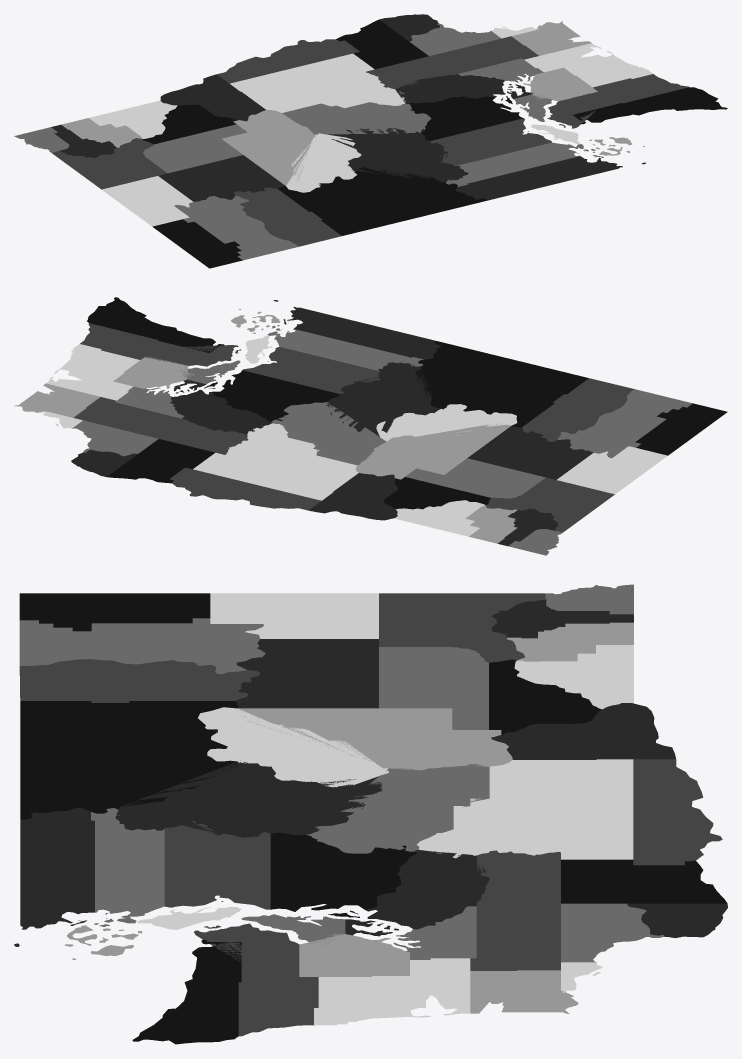
File: Washington_Counties_2D.fbx
3 views of the same model, one above another, from view 1: azimuth 30°, elevation 25°; view 2: azimuth 150°, elevation 25°; view 3: azimuth 270°, elevation 25° (orthographic). The views are drawn at different scales.
Visible parts, largest first — view 1: WA_Okanogan_County_2D, WA_Yakima_County_2D, WA_Chelan_County_2D, WA_Grant_County_2D, WA_Lewis_County_2D, WA_Kittitas_County_2D, WA_Stevens_County_2D, WA_Lincoln_County_2D, WA_Ferry_County_2D, WA_Whatcom_County_2D, WA_King_County_2D, WA_Snohomish_County_2D (+25 smaller); view 2: WA_Okanogan_County_2D, WA_Yakima_County_2D, WA_Chelan_County_2D, WA_Grant_County_2D, WA_Lewis_County_2D, WA_Kittitas_County_2D, WA_Stevens_County_2D, WA_Lincoln_County_2D, WA_Ferry_County_2D, WA_King_County_2D, WA_Whatcom_County_2D, WA_Snohomish_County_2D (+25 smaller); view 3: WA_Okanogan_County_2D, WA_Yakima_County_2D, WA_Chelan_County_2D, WA_Grant_County_2D, WA_Lewis_County_2D, WA_Stevens_County_2D, WA_Kittitas_County_2D, WA_Lincoln_County_2D, WA_Ferry_County_2D, WA_King_County_2D, WA_Whatcom_County_2D, WA_Douglas_County_2D (+27 smaller).
Boxes of the visible parts, box(x1,y1,x2,y2) form: WA_Okanogan_County_2D: box(277, 167, 487, 235); WA_Yakima_County_2D: box(230, 53, 405, 112); WA_Chelan_County_2D: box(327, 128, 468, 182); WA_Grant_County_2D: box(221, 110, 315, 185); WA_Lewis_County_2D: box(366, 36, 538, 88); WA_Kittitas_County_2D: box(282, 102, 431, 134); WA_Stevens_County_2D: box(174, 195, 298, 260); WA_Lincoln_County_2D: box(158, 155, 285, 201); WA_Ferry_County_2D: box(234, 187, 341, 246); WA_Whatcom_County_2D: box(455, 155, 645, 200); WA_King_County_2D: box(409, 96, 523, 140); WA_Snohomish_County_2D: box(430, 118, 551, 165); WA_Okanogan_County_2D: box(415, 341, 588, 427); WA_Yakima_County_2D: box(193, 423, 358, 500); WA_Chelan_County_2D: box(326, 362, 443, 436); WA_Grant_County_2D: box(355, 423, 510, 479); WA_Lewis_County_2D: box(73, 397, 248, 454); WA_Kittitas_County_2D: box(272, 402, 386, 465); WA_Stevens_County_2D: box(558, 389, 692, 458); WA_Lincoln_County_2D: box(467, 426, 593, 479); WA_Ferry_County_2D: box(522, 378, 633, 441); WA_King_County_2D: box(204, 370, 339, 421); WA_Whatcom_County_2D: box(273, 300, 441, 359); WA_Snohomish_County_2D: box(242, 347, 380, 393); WA_Okanogan_County_2D: box(20, 701, 238, 819); WA_Yakima_County_2D: box(417, 759, 633, 859); WA_Chelan_County_2D: box(115, 761, 382, 837); WA_Grant_County_2D: box(237, 708, 512, 770); WA_Lewis_County_2D: box(470, 850, 560, 970); WA_Stevens_County_2D: box(19, 618, 265, 674); WA_Kittitas_County_2D: box(306, 764, 489, 853); WA_Lincoln_County_2D: box(235, 639, 378, 708); WA_Ferry_County_2D: box(19, 659, 260, 702); WA_King_County_2D: box(270, 832, 416, 917); WA_Whatcom_County_2D: box(14, 808, 94, 946); WA_Douglas_County_2D: box(198, 707, 388, 787).
Size of the model in its own units: 798 by 0 by 524.
